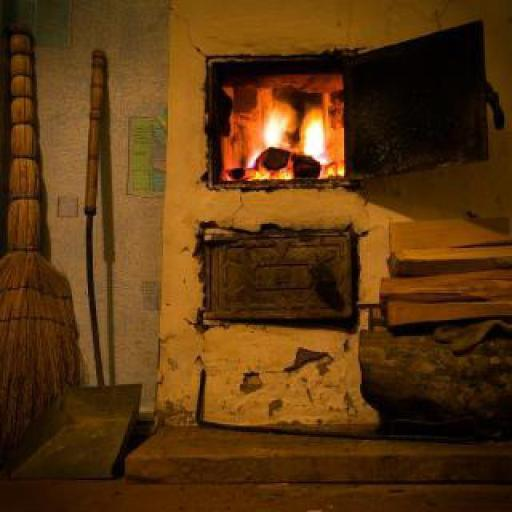smoke: (230, 88, 336, 194)
